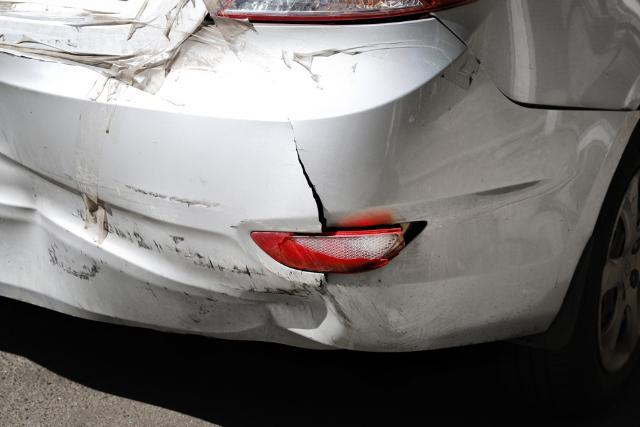Bumper: (0, 0, 640, 370)
